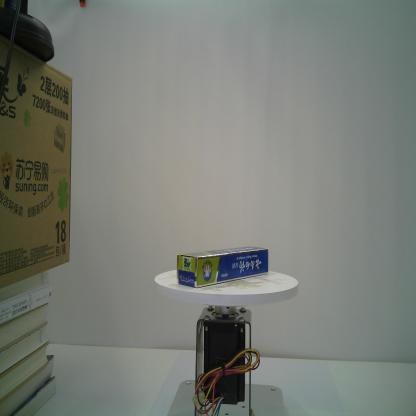Personal Hygiene: (176, 245, 269, 290)
